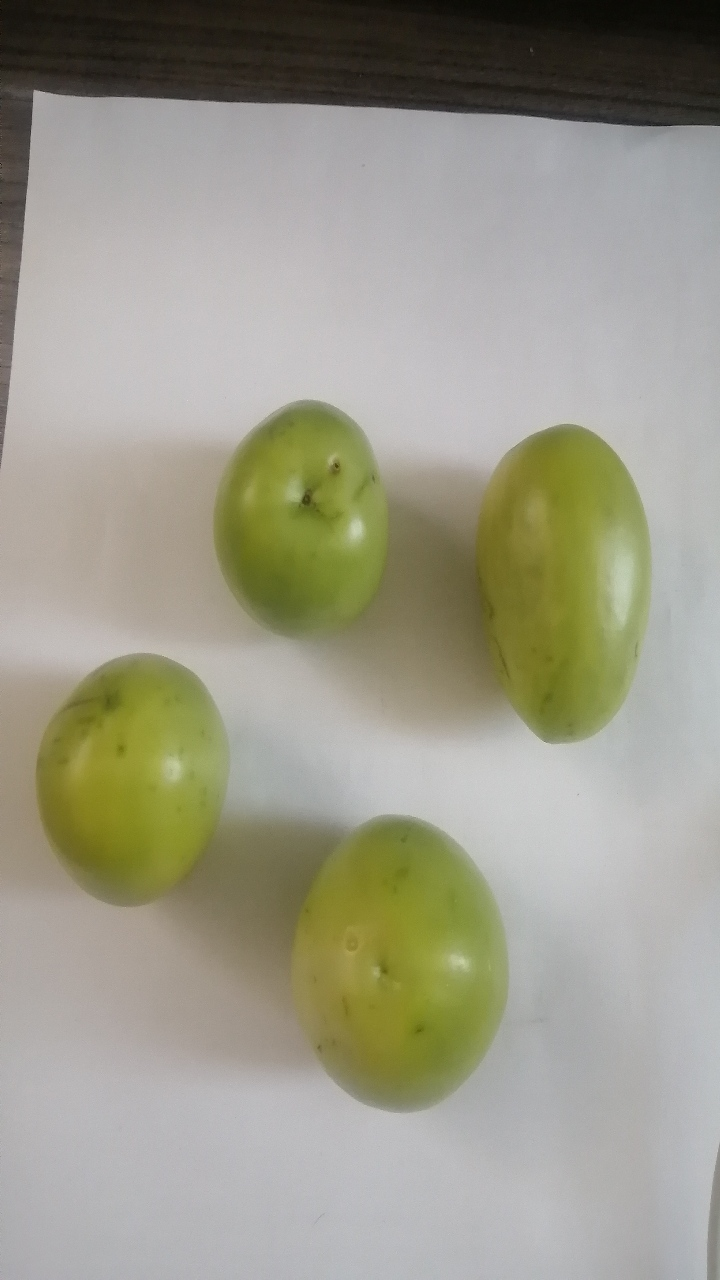tomateVerde: (272, 785, 523, 1143), (461, 399, 661, 779), (189, 366, 426, 659), (29, 635, 241, 923)
